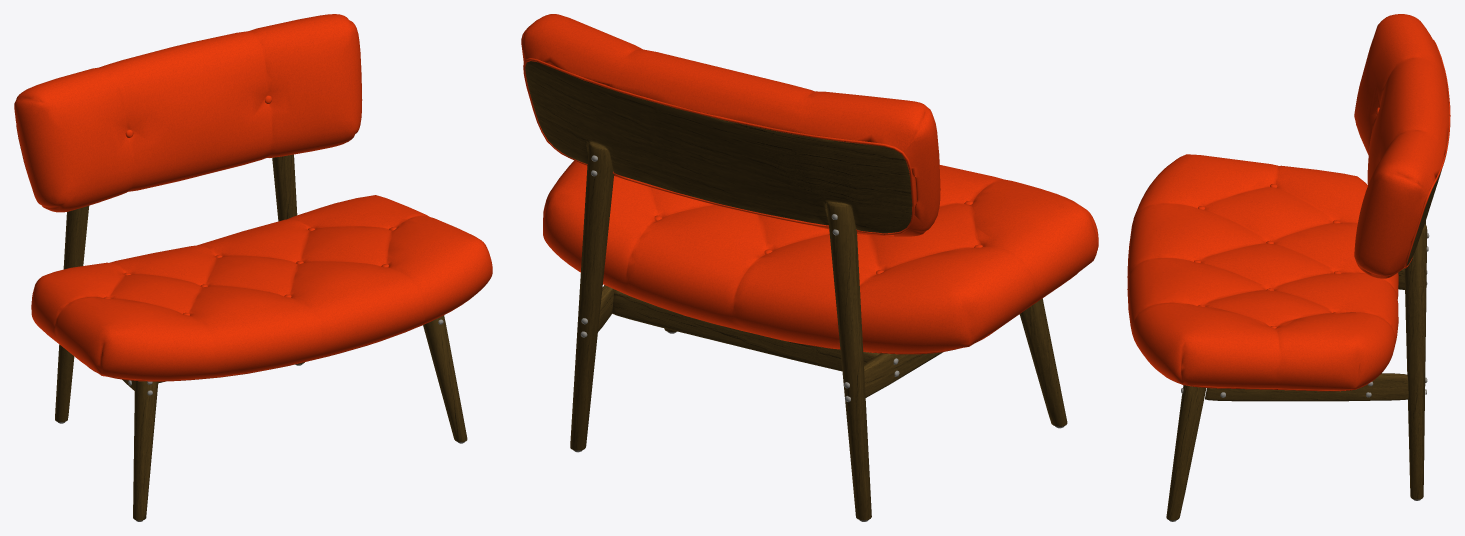
Rendered from SheenChair.glb.
The picture shows the model from 3 angles, left to right: view 1: azimuth 30°, elevation 25°; view 2: azimuth 150°, elevation 25°; view 3: azimuth 270°, elevation 25°; orthographic projection. The views are drawn at different scales.
Parts seen in each view (by area): view 1: SheenChair_fabric, SheenChair_wood; view 2: SheenChair_fabric, SheenChair_wood; view 3: SheenChair_fabric, SheenChair_wood.
Boxes of the visible parts, bbox=[...] form: SheenChair_fabric: bbox=[14, 14, 492, 381]; SheenChair_wood: bbox=[55, 154, 467, 520]; SheenChair_fabric: bbox=[521, 14, 1098, 354]; SheenChair_wood: bbox=[525, 61, 1067, 520]; SheenChair_fabric: bbox=[1127, 14, 1450, 391]; SheenChair_wood: bbox=[1166, 169, 1441, 520].
Bounding box in the file's own units: 0.8266 × 0.6859 × 0.5702.
4 materials, 3 textured.
